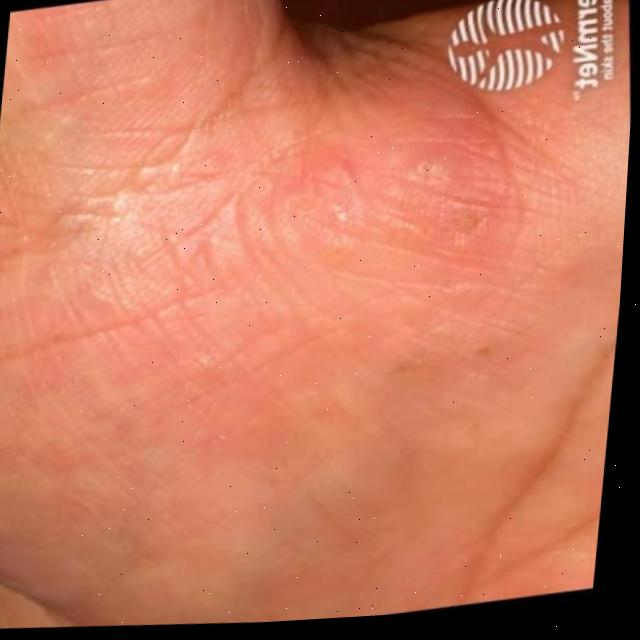Eczema: (48, 50, 555, 480)
